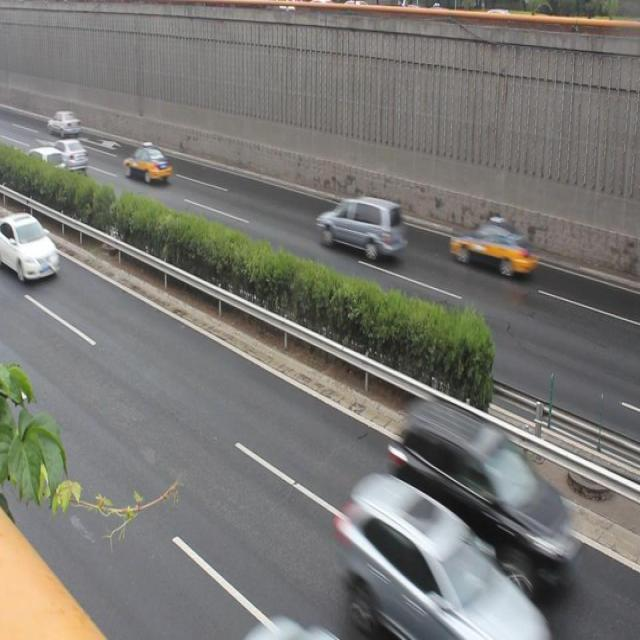car: (393, 398, 577, 589), (338, 473, 530, 640), (449, 220, 533, 278), (1, 212, 60, 283), (123, 144, 172, 183), (22, 148, 66, 189), (46, 140, 90, 175)
truck: (316, 195, 404, 262)
